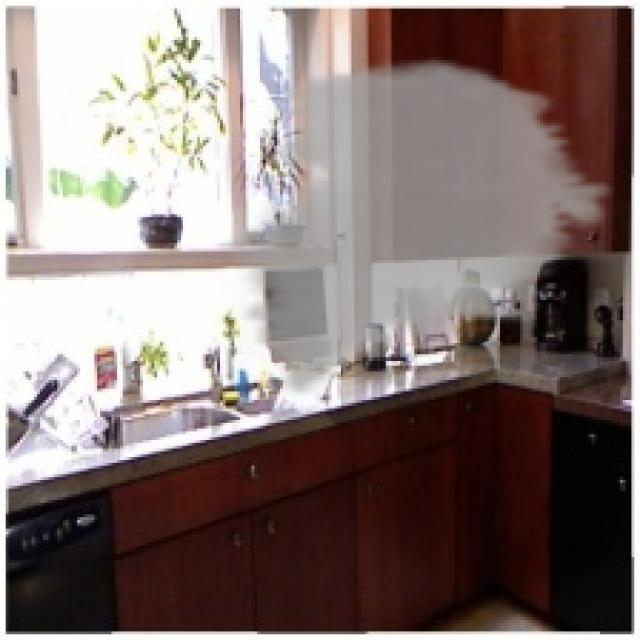smoke: (214, 54, 620, 397)
